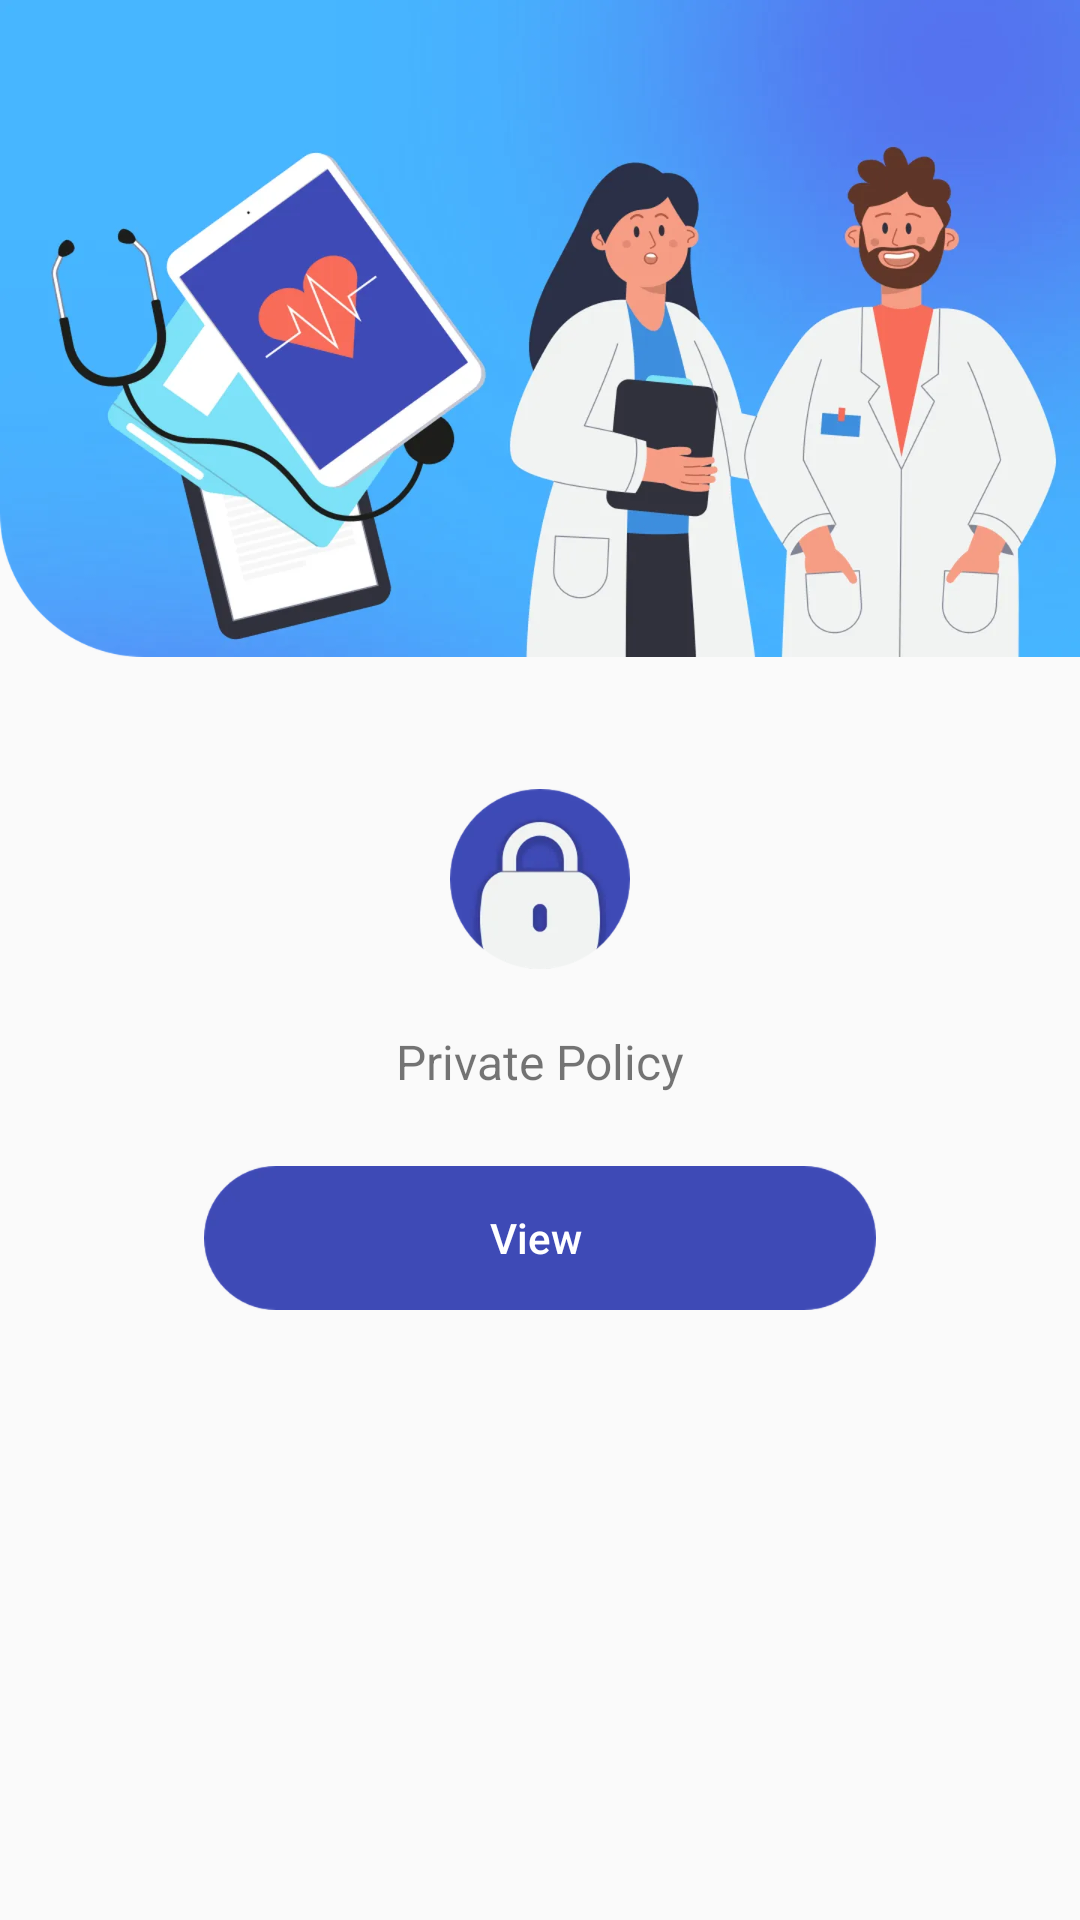

Where icons sit on this 1080px×1920px app screen, as (x1, y1, x2, y2):
privacy: (450, 789, 630, 949)
